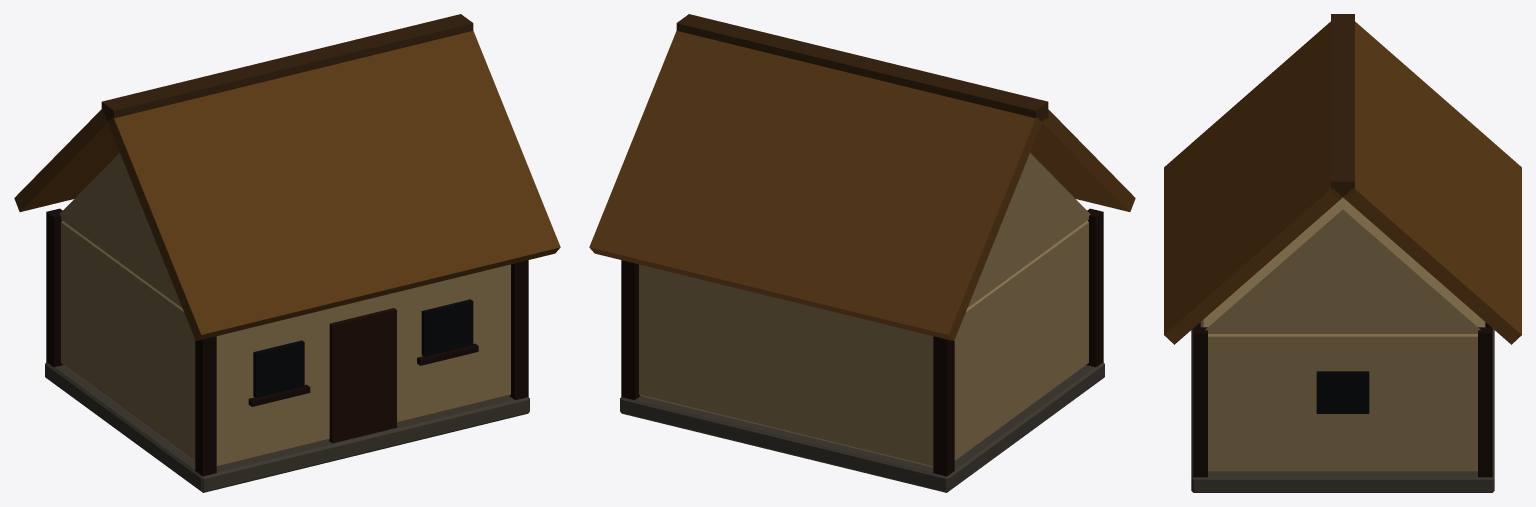
Rendered from house_small.fbx.
3 renders of one model, left to right at view 1: azimuth 30°, elevation 25°; view 2: azimuth 150°, elevation 25°; view 3: azimuth 270°, elevation 25°, orthographic. The views are drawn at different scales.
Parts seen in each view (by area): view 1: house_small; view 2: house_small; view 3: house_small.
Part boxes in pixels (x1,y1,x2,y2): house_small: [14, 14, 560, 492]; house_small: [589, 14, 1135, 492]; house_small: [1164, 14, 1521, 492].
Size of the model in its own units: 5.3 by 4.7 by 4.78.
